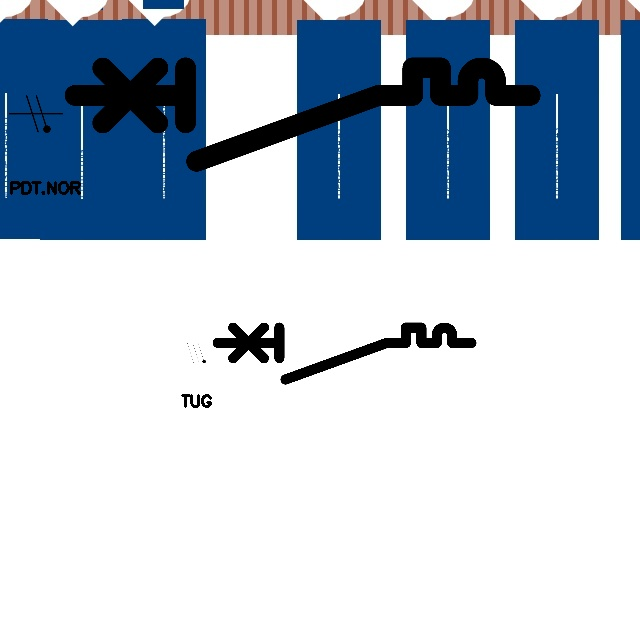interruptor_termomagnetico: (63, 56, 542, 173), (211, 321, 478, 386)
